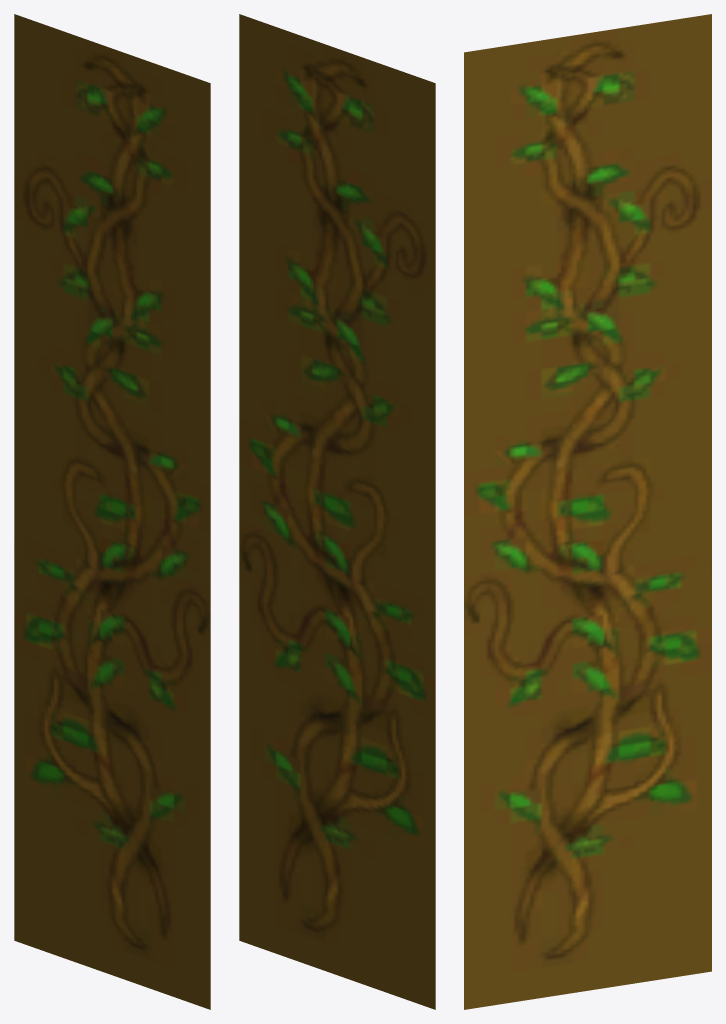
File: EKH_GROTTO_PS_GR_PLANE277.fbx
3 views of the same model, side by side, from view 1: azimuth 30°, elevation 25°; view 2: azimuth 210°, elevation 25°; view 3: azimuth 270°, elevation 25° (orthographic). The views are drawn at different scales.
Parts seen in each view (by area): view 1: EKH_GROTTO_PS_GR_PLANE277; view 2: EKH_GROTTO_PS_GR_PLANE277; view 3: EKH_GROTTO_PS_GR_PLANE277.
Boxes of the visible parts, left/top/right/bottom form: EKH_GROTTO_PS_GR_PLANE277: left=14, top=14, right=210, bottom=1009; EKH_GROTTO_PS_GR_PLANE277: left=239, top=14, right=435, bottom=1009; EKH_GROTTO_PS_GR_PLANE277: left=464, top=14, right=711, bottom=1009.
Bounding box in the file's own units: 2375 × 27592 × 6476.
Materials: 1 (1 with a texture image).
